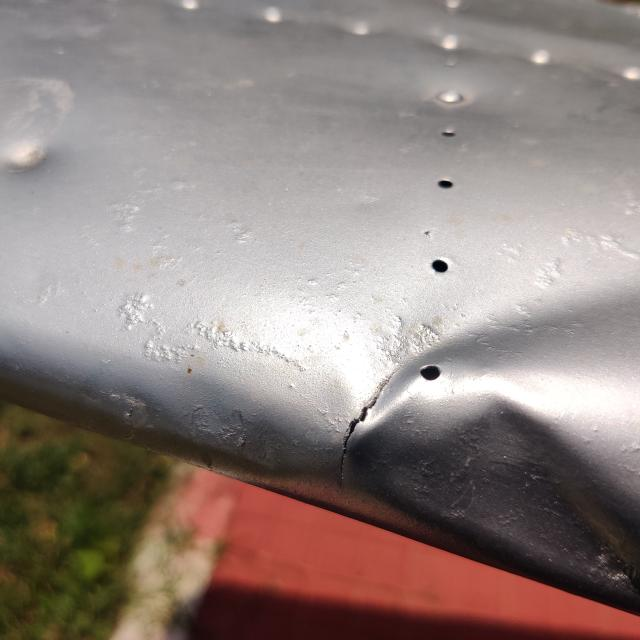crack: (320, 350, 418, 525)
dent: (326, 247, 640, 621), (0, 120, 77, 200)
